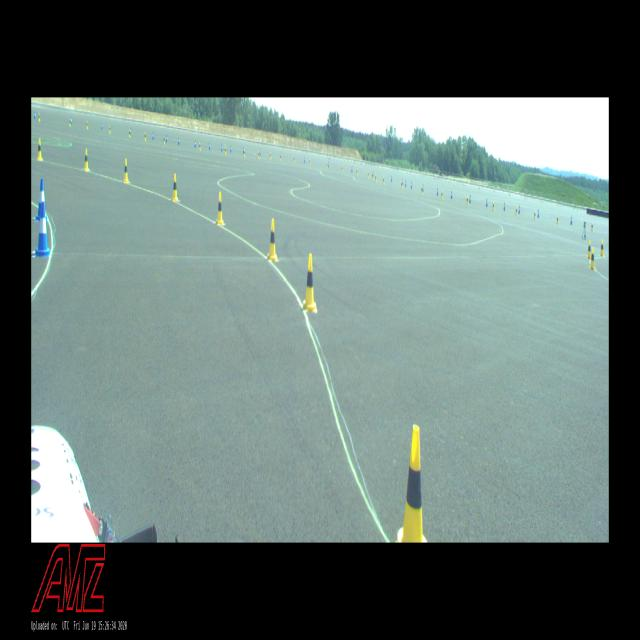blue_cone: (36, 201, 50, 255), (36, 178, 48, 220), (194, 140, 197, 147), (486, 198, 488, 208), (538, 208, 540, 218), (70, 116, 72, 126), (152, 131, 154, 140), (178, 136, 180, 145), (450, 190, 452, 199), (504, 202, 506, 211), (221, 143, 223, 152), (166, 134, 168, 143), (436, 187, 438, 196), (570, 216, 572, 225), (130, 127, 132, 136), (518, 204, 520, 213), (402, 177, 404, 186), (230, 145, 232, 153), (208, 142, 210, 150), (34, 111, 36, 119), (410, 181, 412, 189), (243, 145, 245, 153), (259, 148, 261, 156), (422, 184, 424, 192), (372, 169, 374, 177), (102, 122, 104, 129), (390, 175, 392, 182), (351, 166, 353, 173), (470, 194, 471, 203), (405, 179, 406, 187), (304, 156, 305, 163), (328, 161, 329, 168)
yellow_cone: (398, 426, 428, 542), (303, 253, 316, 310), (268, 219, 277, 260), (216, 192, 224, 224), (172, 174, 178, 201), (123, 159, 129, 183), (37, 139, 43, 161), (84, 148, 89, 171), (590, 248, 595, 270), (587, 240, 591, 259), (600, 240, 604, 257), (163, 136, 166, 144), (224, 147, 227, 154), (441, 190, 443, 200), (492, 201, 494, 211), (128, 128, 130, 138), (556, 215, 558, 225), (144, 132, 146, 141), (108, 124, 110, 133), (199, 142, 201, 151), (516, 206, 518, 215), (466, 196, 468, 205), (69, 117, 71, 126), (534, 210, 536, 219), (38, 113, 40, 121), (401, 181, 403, 189), (591, 223, 593, 231), (309, 158, 311, 166), (382, 176, 384, 184), (86, 121, 88, 129), (293, 156, 295, 163), (356, 168, 358, 175), (367, 171, 369, 178), (374, 174, 376, 181), (280, 154, 282, 160), (421, 185, 422, 194), (244, 149, 245, 158), (258, 151, 259, 159), (342, 164, 343, 172), (270, 152, 271, 160), (372, 173, 373, 180), (326, 162, 327, 168)
